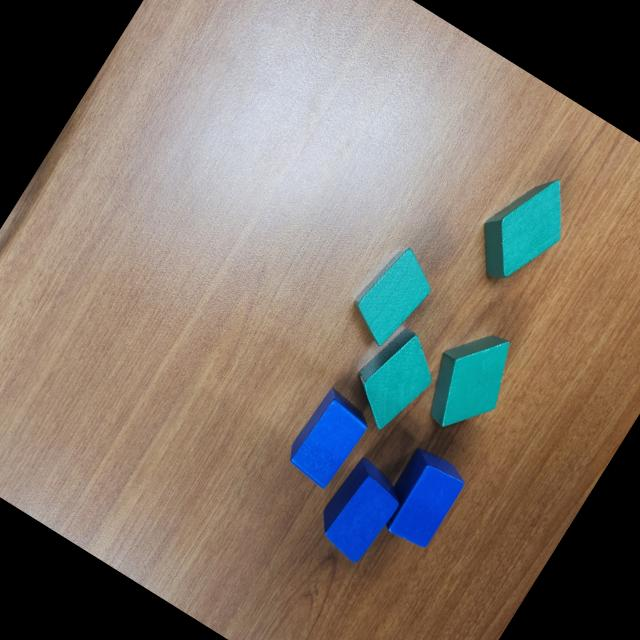blue: (306, 452, 412, 568), (371, 442, 472, 553), (280, 386, 375, 492)
green: (458, 159, 584, 298), (408, 316, 526, 444), (338, 318, 449, 441), (340, 236, 447, 354)
